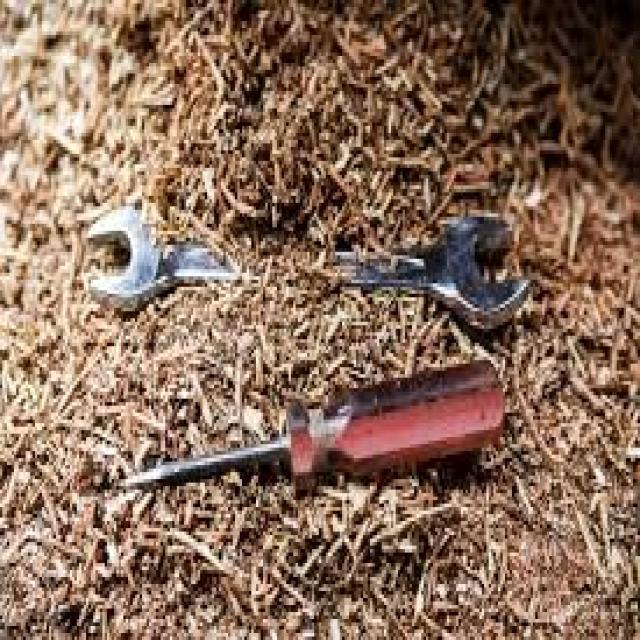screwdriver: (112, 355, 508, 498)
